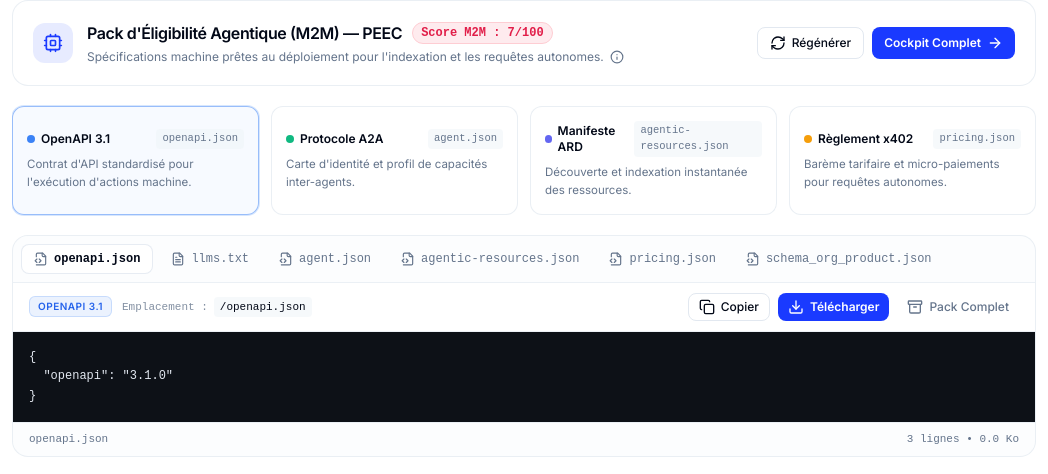
Scenario: AgenticRemediationSection › clicking a protocol card activates its corresponding file in the studio
Step 1. Click the button "Protocole A2A" → [394, 160], box [271,106,518,215]
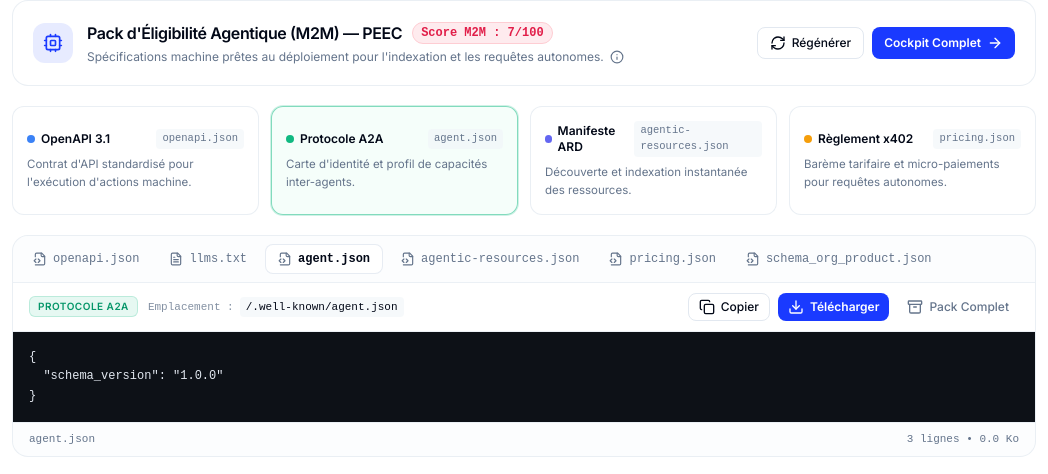
Result: the text "/.well-known/agent.json" is shown at [240,297,404,317]
